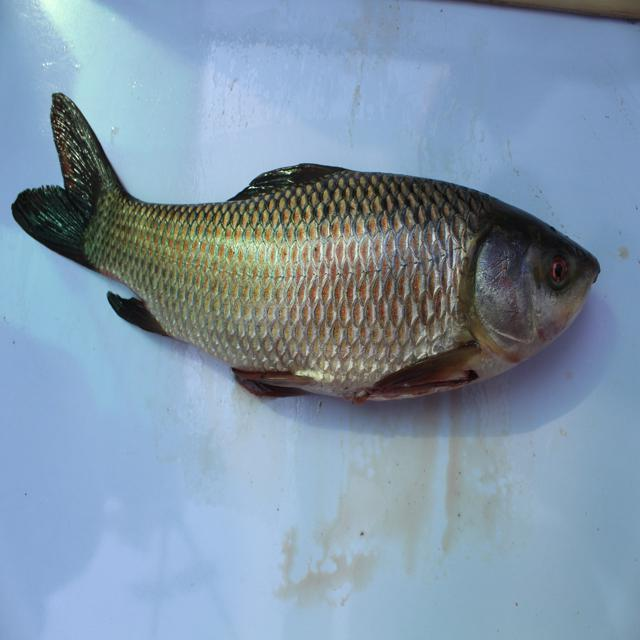Rohu: (20, 87, 613, 412)
